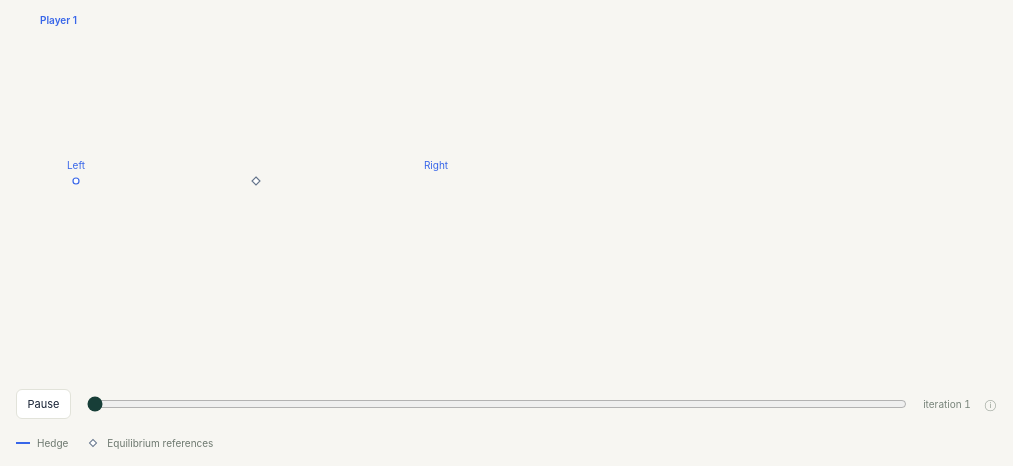
Test case: provides a scrubber and explicitly discloses interpolated playback
Set the slider named "Playback iteration" to "5.5": [497, 404] box [87,392,907,416]
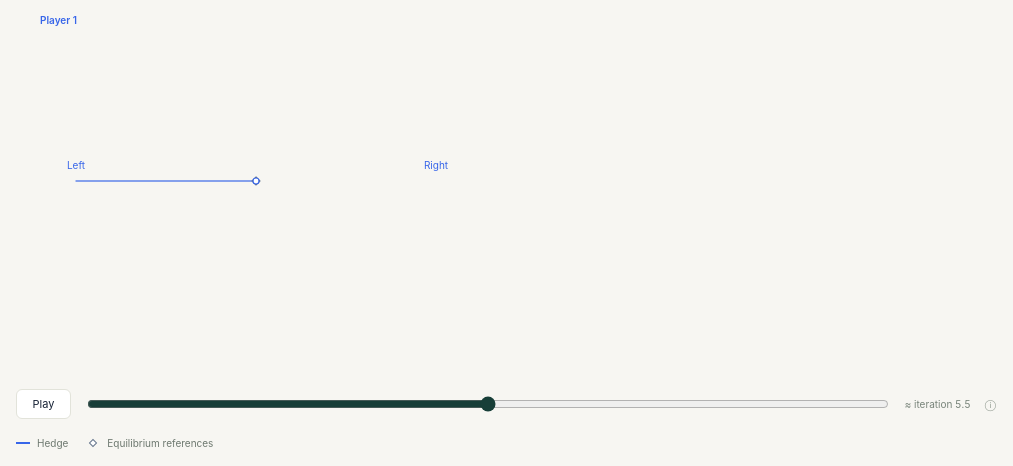
Expected: the text "≈ iteration 5.5" is shown, [905,398,971,410]
Expected: the button "Play" is shown, [16,389,71,419]
